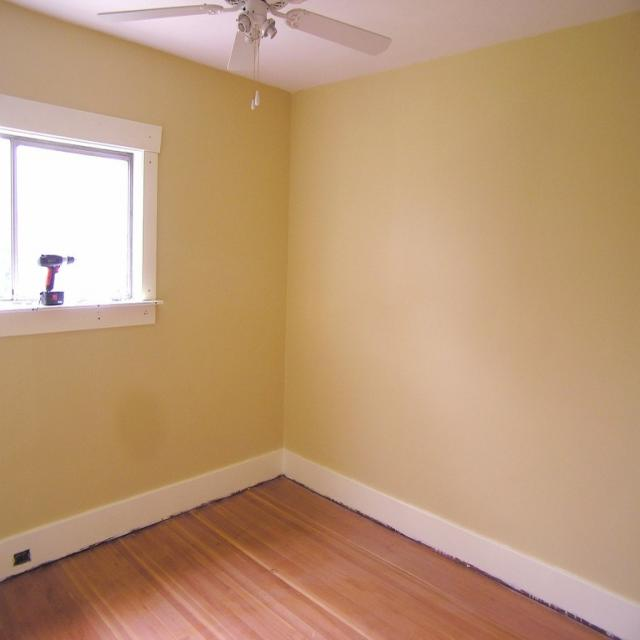Bulb: (98, 0, 390, 111)
